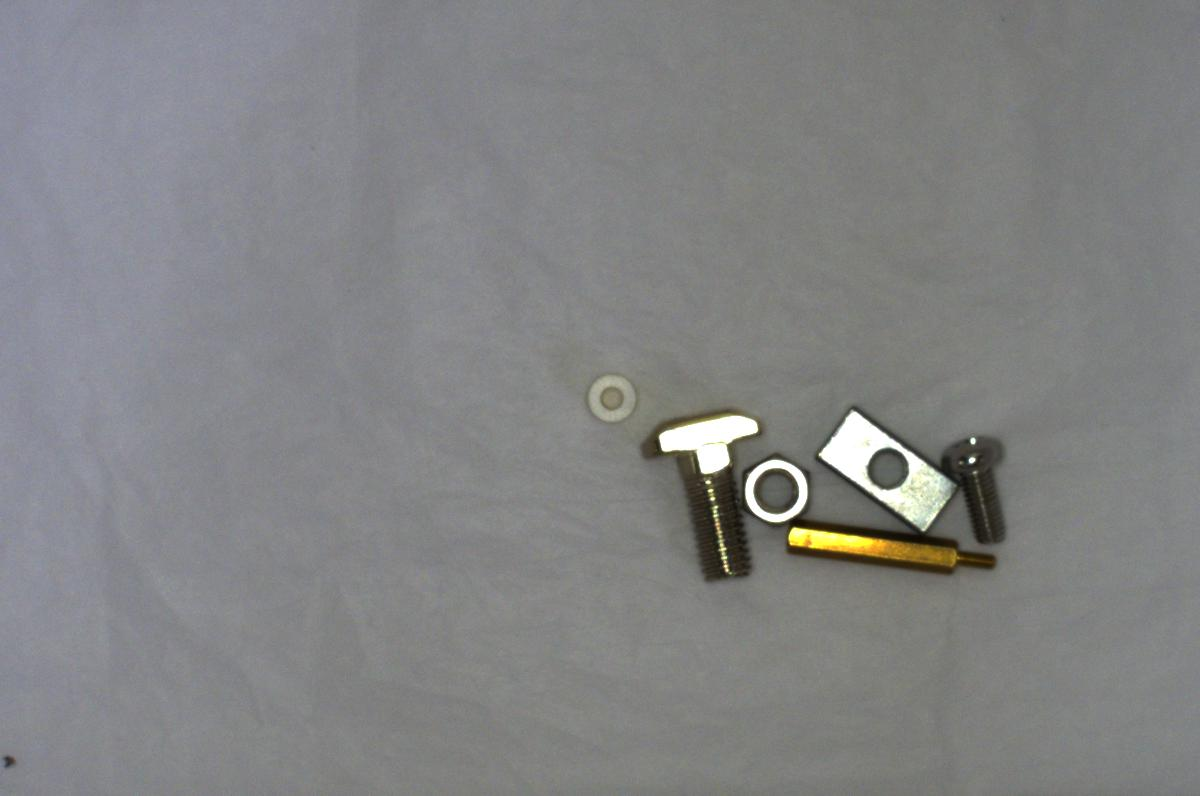Hexagon nut: (733, 450, 814, 527)
Hexagon pillar: (787, 515, 998, 585)
Plastic cushion pillar: (578, 369, 641, 429)
Rectangular nut: (814, 403, 954, 530)
Round head screw: (937, 427, 1013, 542)
T-shaped screw: (634, 405, 771, 592)
